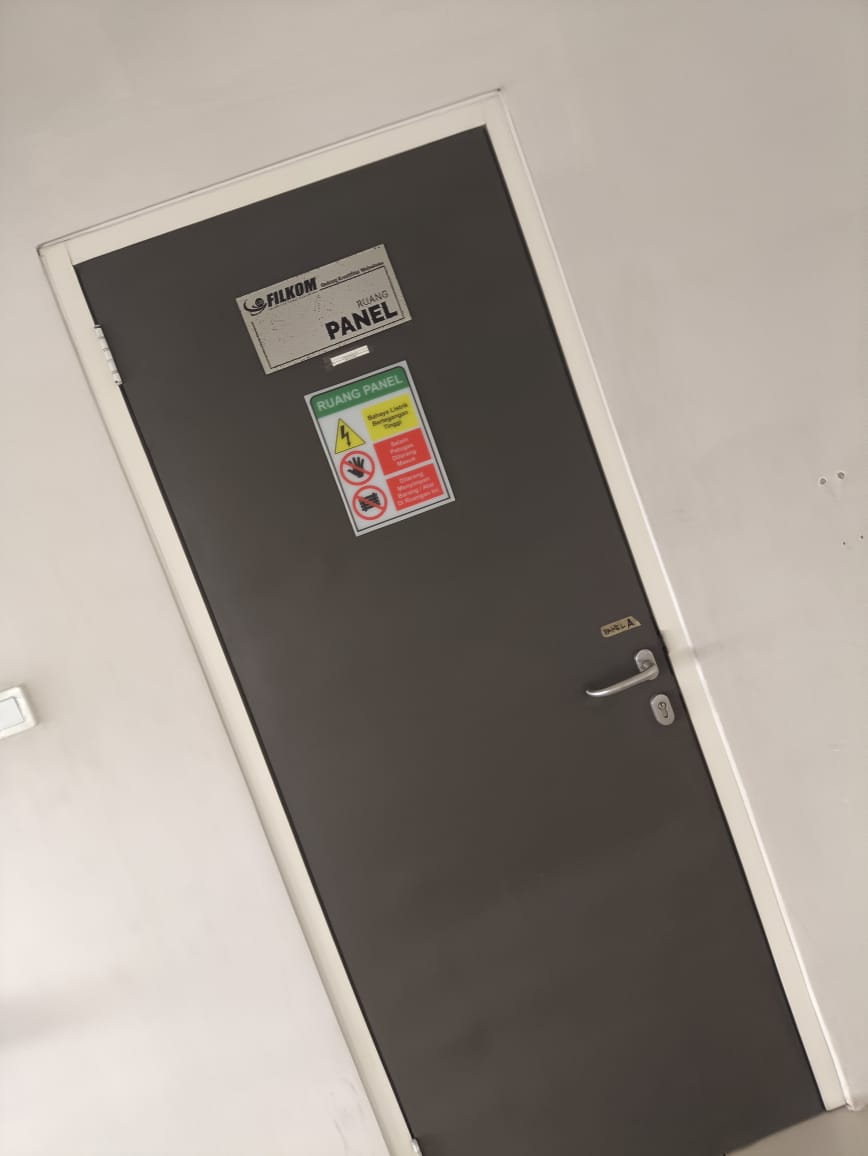ruang panel: (230, 240, 427, 381)
